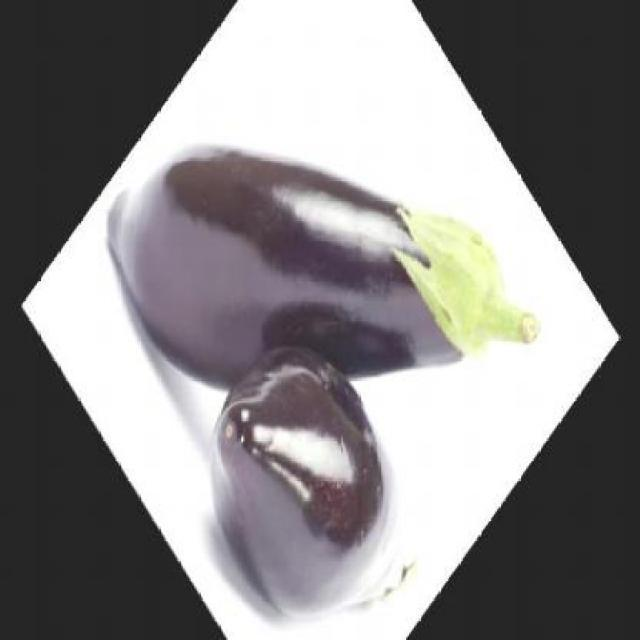eggplant: (86, 138, 541, 394), (208, 311, 417, 640)
